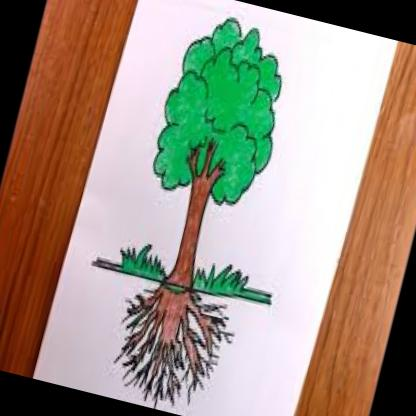branch_cut: (180, 138, 232, 197)
crown_cloud: (144, 8, 302, 216)
root_under: (102, 244, 250, 416)
trunk_straight: (171, 192, 213, 276)
